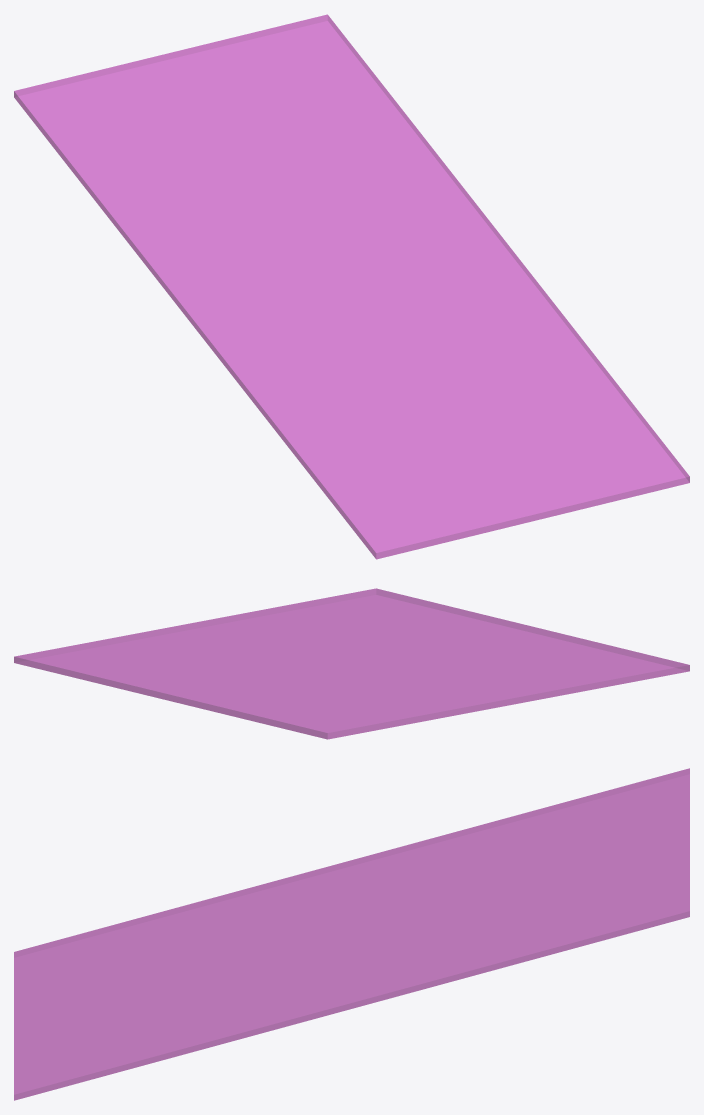
File: SM_Env_Road_Ramp_01_Collision.fbx
3 renders of one model, top to bottom at view 1: azimuth 30°, elevation 25°; view 2: azimuth 150°, elevation 25°; view 3: azimuth 270°, elevation 25°, orthographic. The views are drawn at different scales.
Visible parts, largest first — view 1: SM_Env_Road_Ramp_01_Collision; view 2: SM_Env_Road_Ramp_01_Collision; view 3: SM_Env_Road_Ramp_01_Collision.
Part boxes in pixels (left/top/right/bottom): SM_Env_Road_Ramp_01_Collision: left=14, top=14, right=689, bottom=559; SM_Env_Road_Ramp_01_Collision: left=14, top=588, right=689, bottom=739; SM_Env_Road_Ramp_01_Collision: left=14, top=768, right=689, bottom=1100.
Size of the model in its own units: 500 by 310 by 1000.
